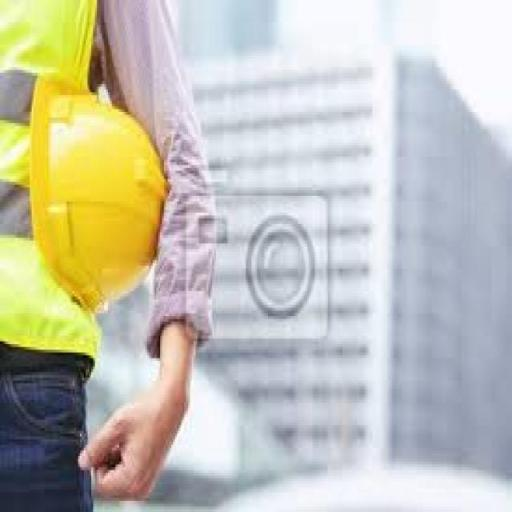helmet: (0, 53, 186, 349)
vest: (4, 56, 180, 347)
